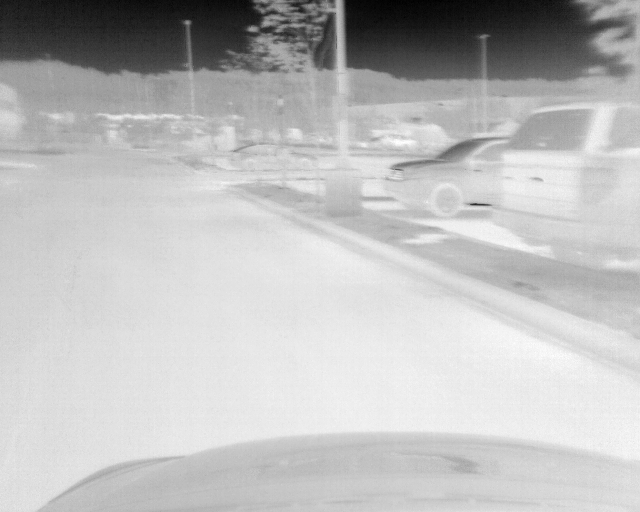car: (492, 100, 640, 266), (384, 137, 507, 220), (227, 143, 314, 173)
